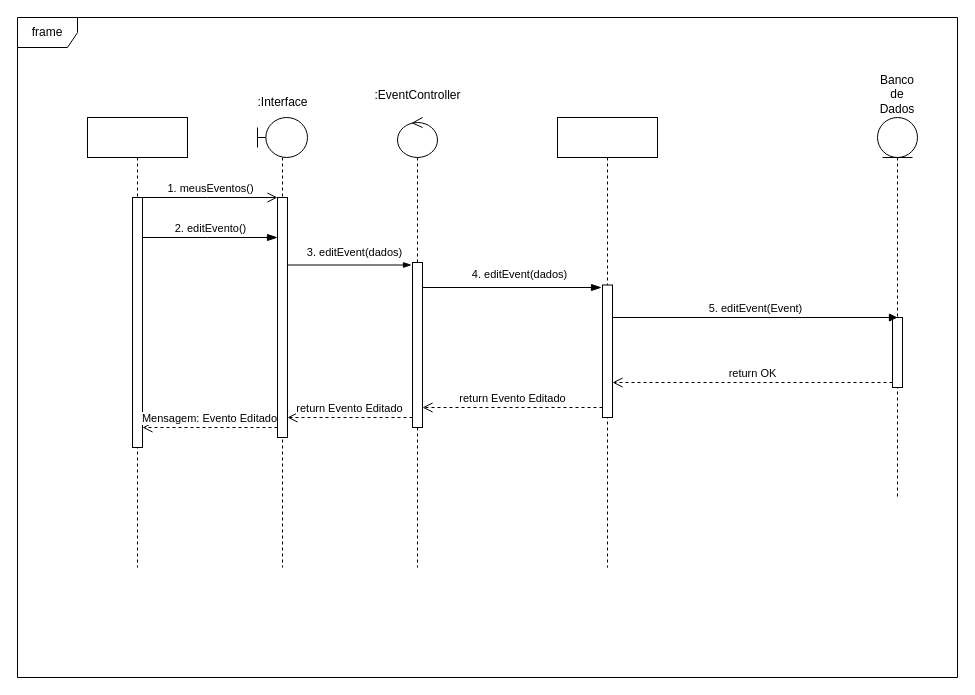
This 975x695 diagram has some shape labels left out. Here are the shapes that lost their labels. From the top down, the box of each, then its label:
(86, 116, 188, 568): :UsuarioAnfitriao
(556, 116, 658, 568): :EventService
